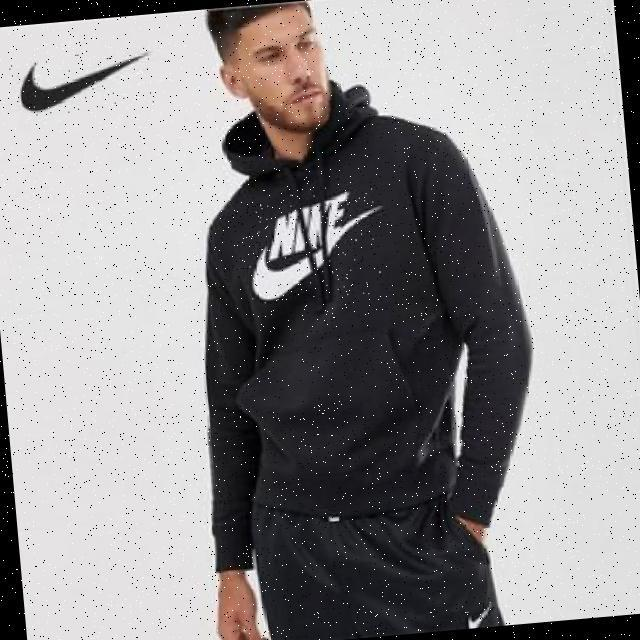Nike: (239, 183, 386, 304), (6, 42, 156, 119), (458, 598, 494, 627)
